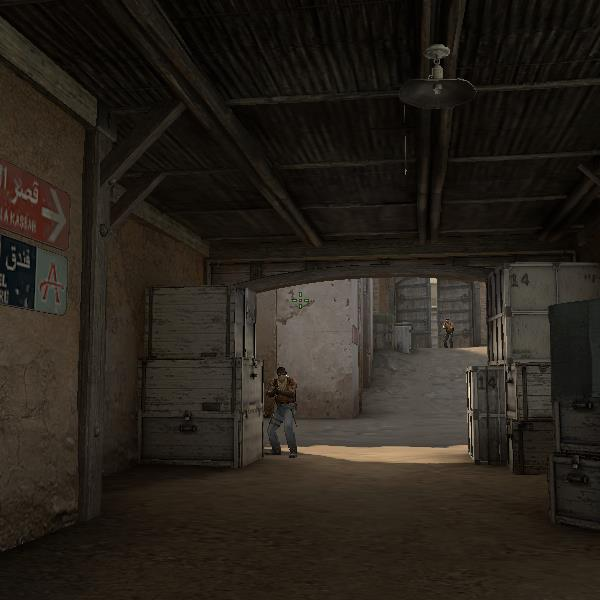t_body: (251, 363, 305, 461)
t_head: (273, 364, 293, 383)
